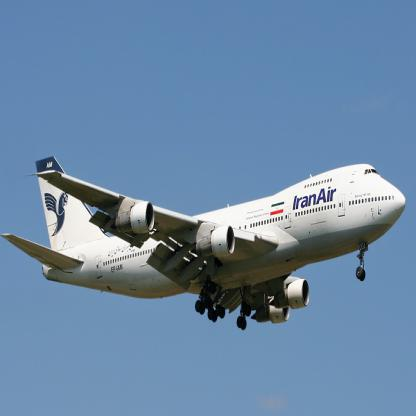CIV_Plane: (0, 150, 408, 330)
